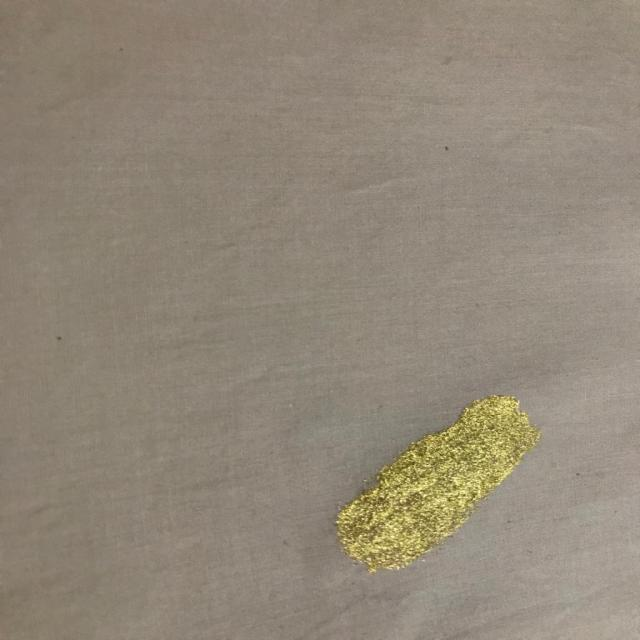Stain: (338, 396, 541, 573)
